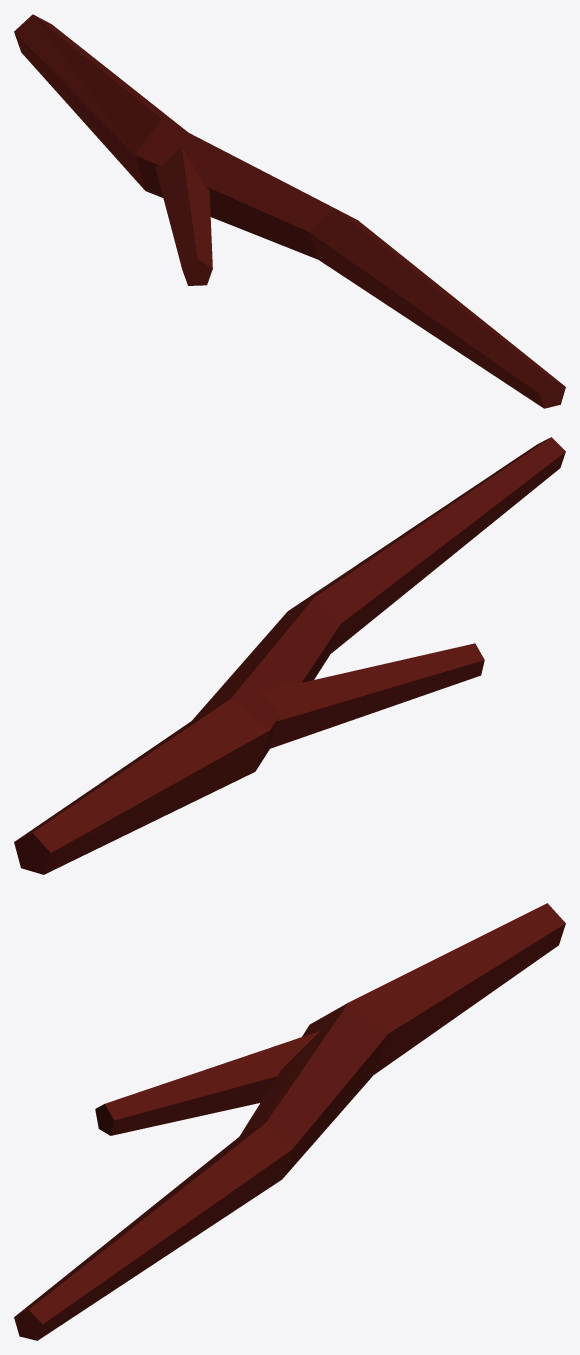
Rendered from SM_FOL_Stick_01_C.obj.
3 views of the same model, one above another, from view 1: azimuth 30°, elevation 25°; view 2: azimuth 150°, elevation 25°; view 3: azimuth 330°, elevation 25° (orthographic). The views are drawn at different scales.
Parts seen in each view (by area): view 1: SM_FOL_Stick_01_C; view 2: SM_FOL_Stick_01_C; view 3: SM_FOL_Stick_01_C.
Boxes of the visible parts, x1,y1,x2,y2 form: SM_FOL_Stick_01_C: [14, 14, 565, 408]; SM_FOL_Stick_01_C: [14, 437, 565, 874]; SM_FOL_Stick_01_C: [14, 903, 565, 1340].
Size of the model in its own units: 15.61 by 5.43 by 75.7.
